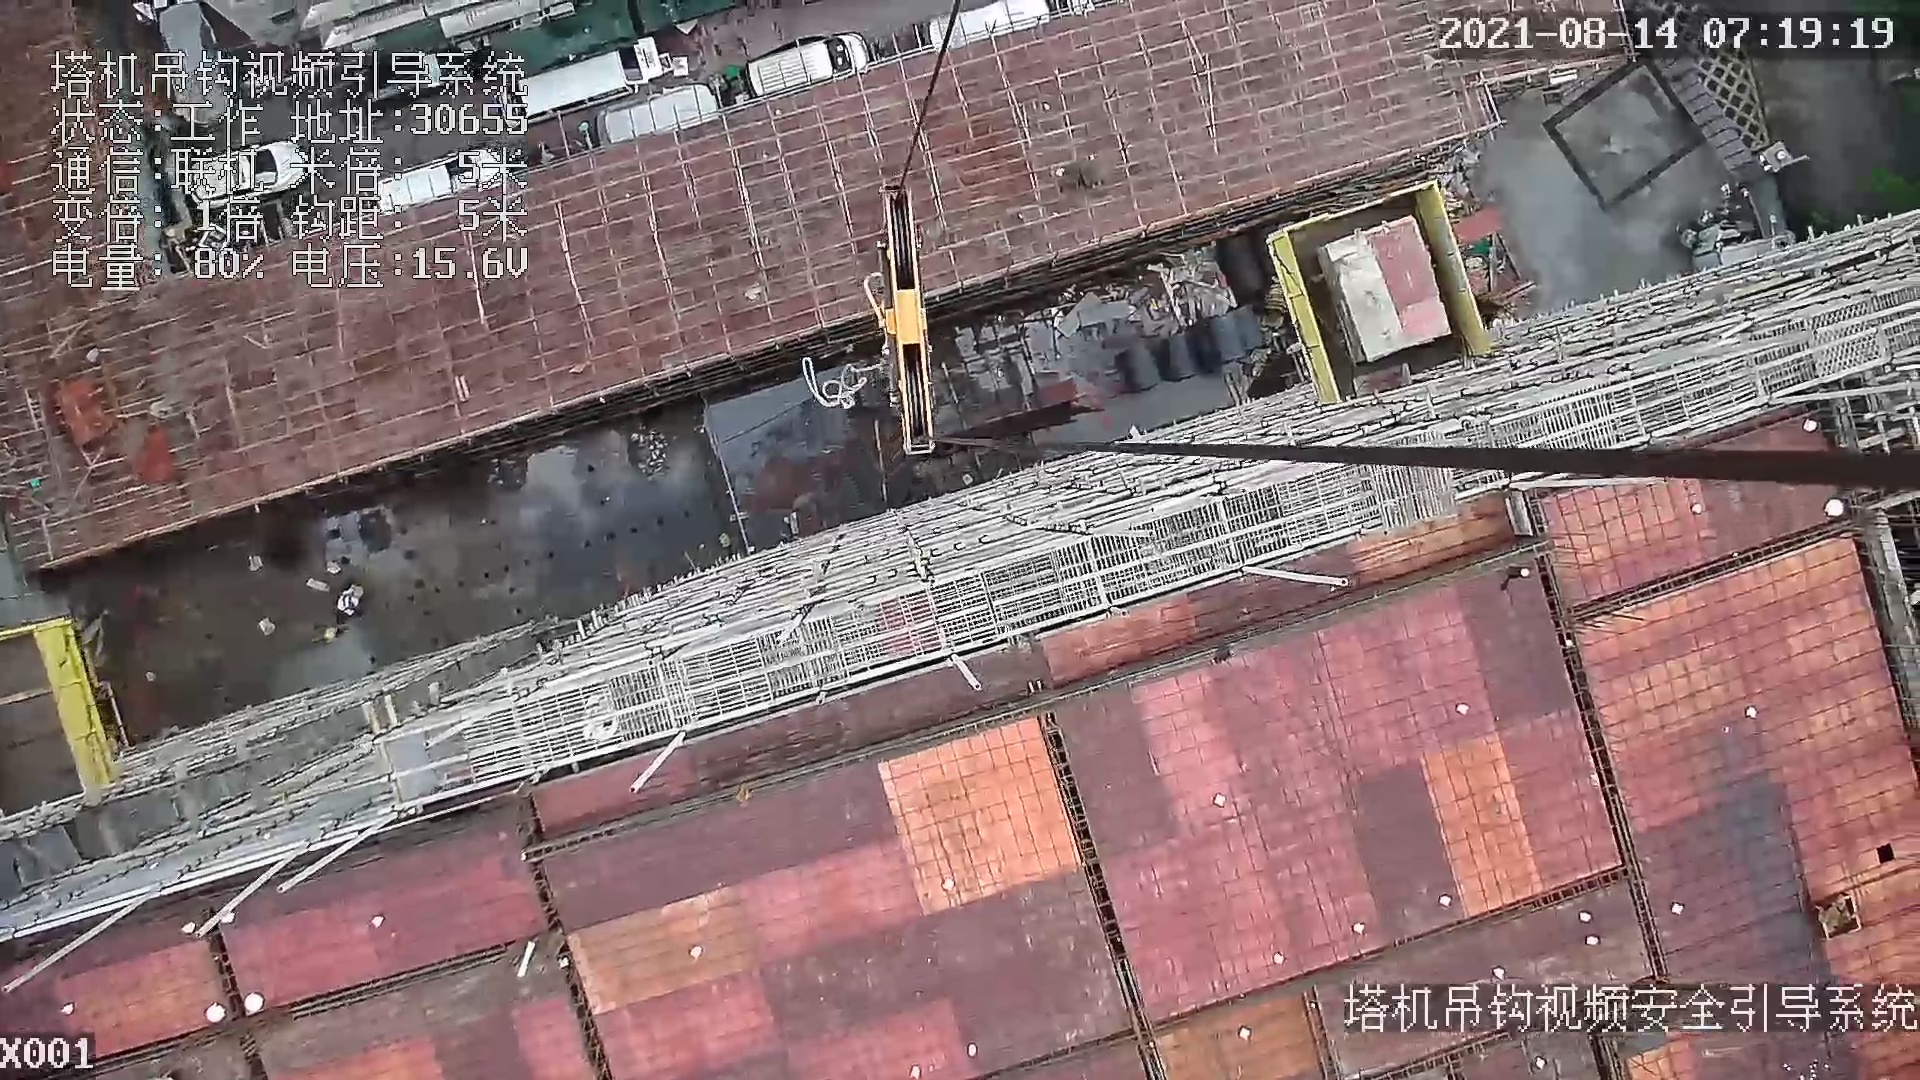hook: (856, 179, 945, 459)
